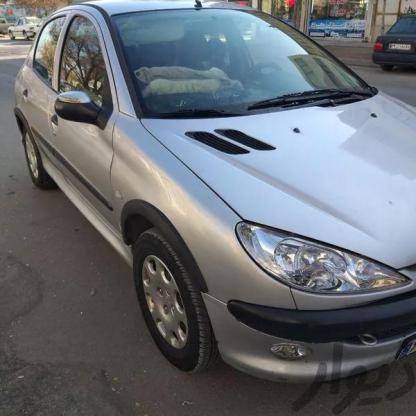Car: (0, 0, 416, 387), (371, 12, 416, 92), (0, 14, 42, 43)
